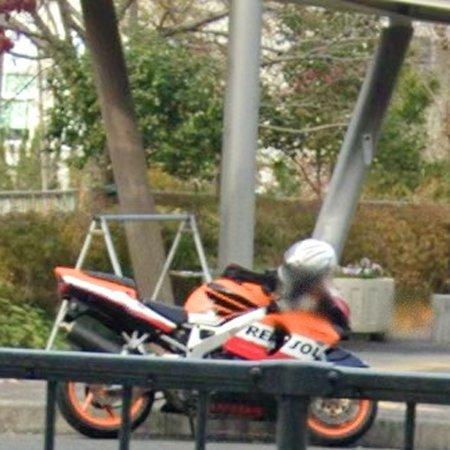motorcycles: (55, 239, 367, 368), (59, 382, 121, 438), (308, 400, 378, 446)
